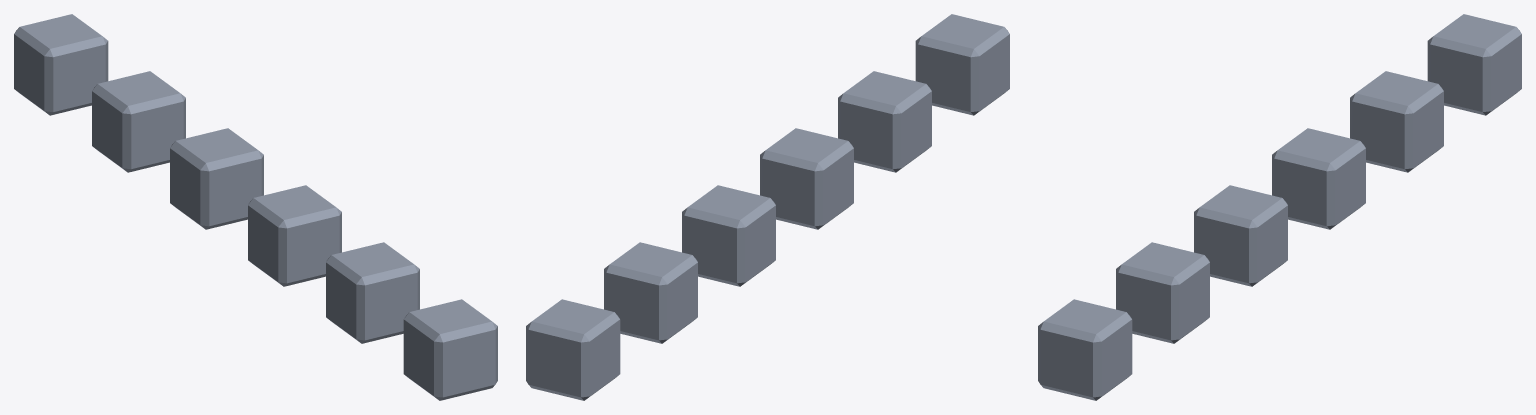
File: block_tower.glb
3 renders of one model, left to right at view 1: azimuth 30°, elevation 25°; view 2: azimuth 150°, elevation 25°; view 3: azimuth 330°, elevation 25°, orthographic.
Visible parts, largest first — view 1: block_tower; view 2: block_tower; view 3: block_tower.
Part boxes in pixels (x1,y1,x2,y2): block_tower: [14, 14, 497, 400]; block_tower: [526, 14, 1009, 400]; block_tower: [1038, 14, 1521, 400].
Size of the model in its own units: 0.34 by 0.34 by 3.94.
